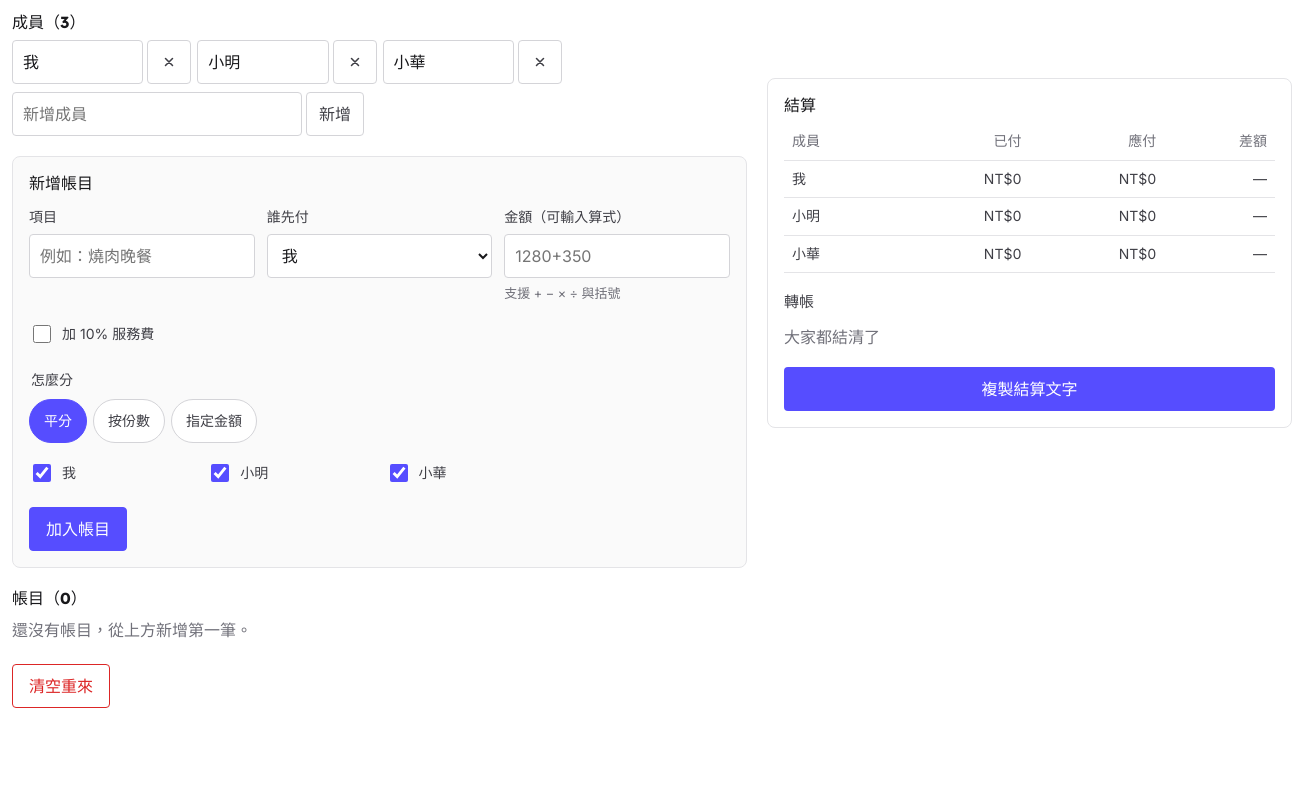
Scenario: SplitBillApp › edits an expense and focuses the form
In the field with id "expense-title": (142, 256) [29,234,255,278], type "晚餐"
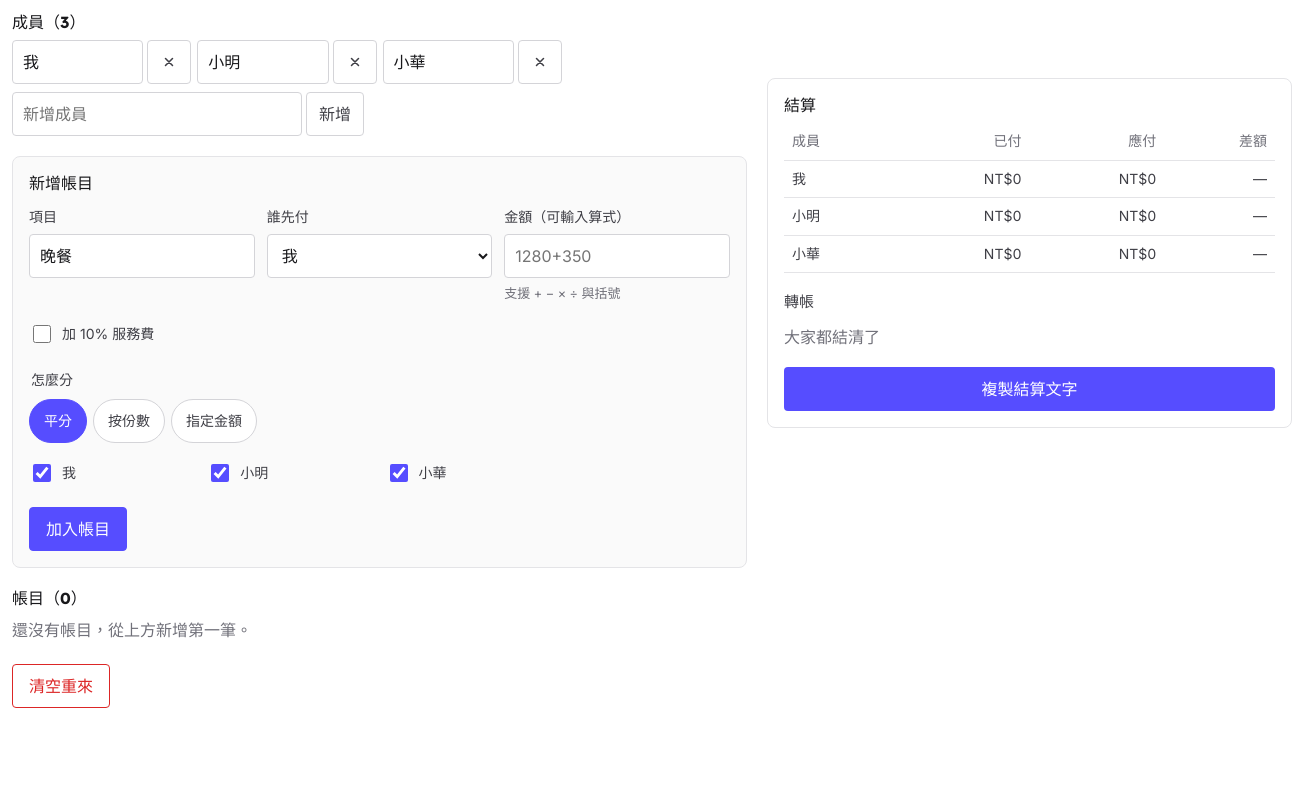
In the field with id "expense-amount": (617, 256) [504,234,730,278], type "900"
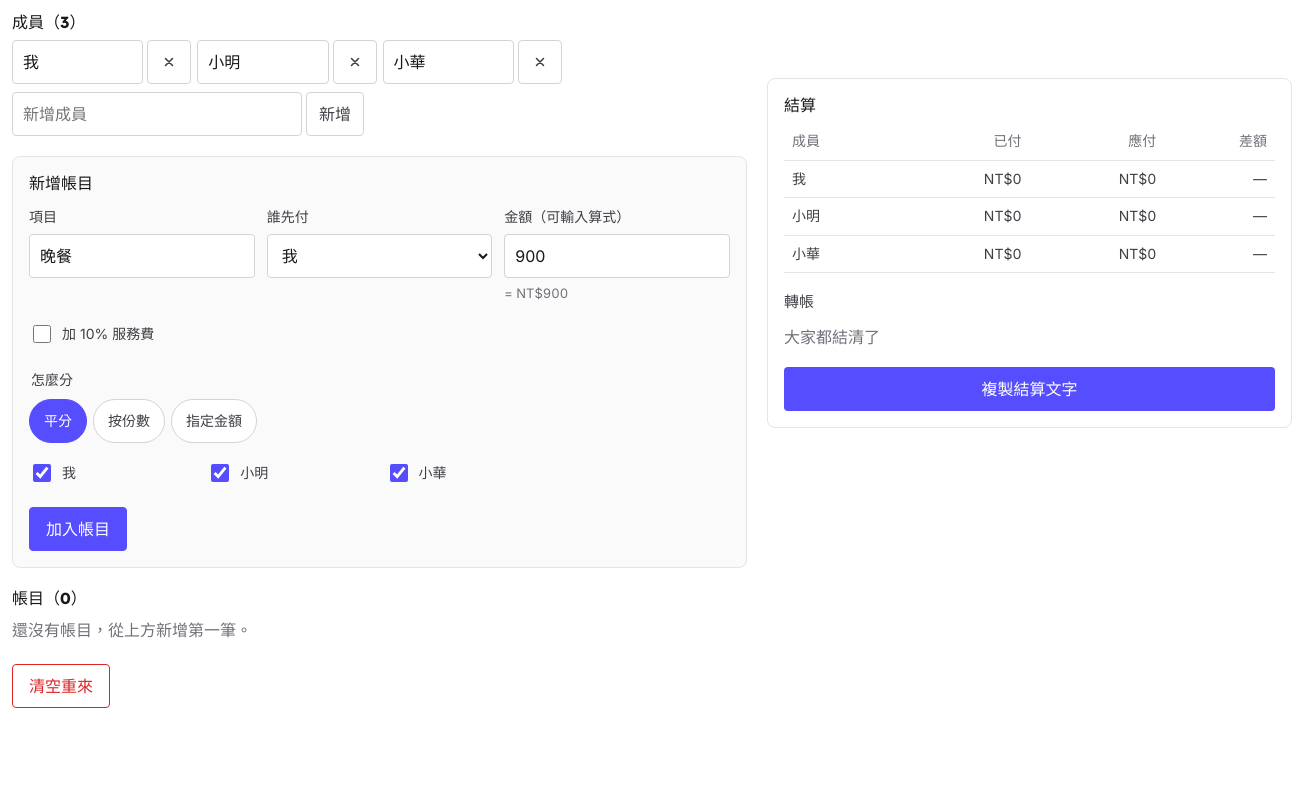
Submit the form with class "expense-form", box [12,156,747,568]
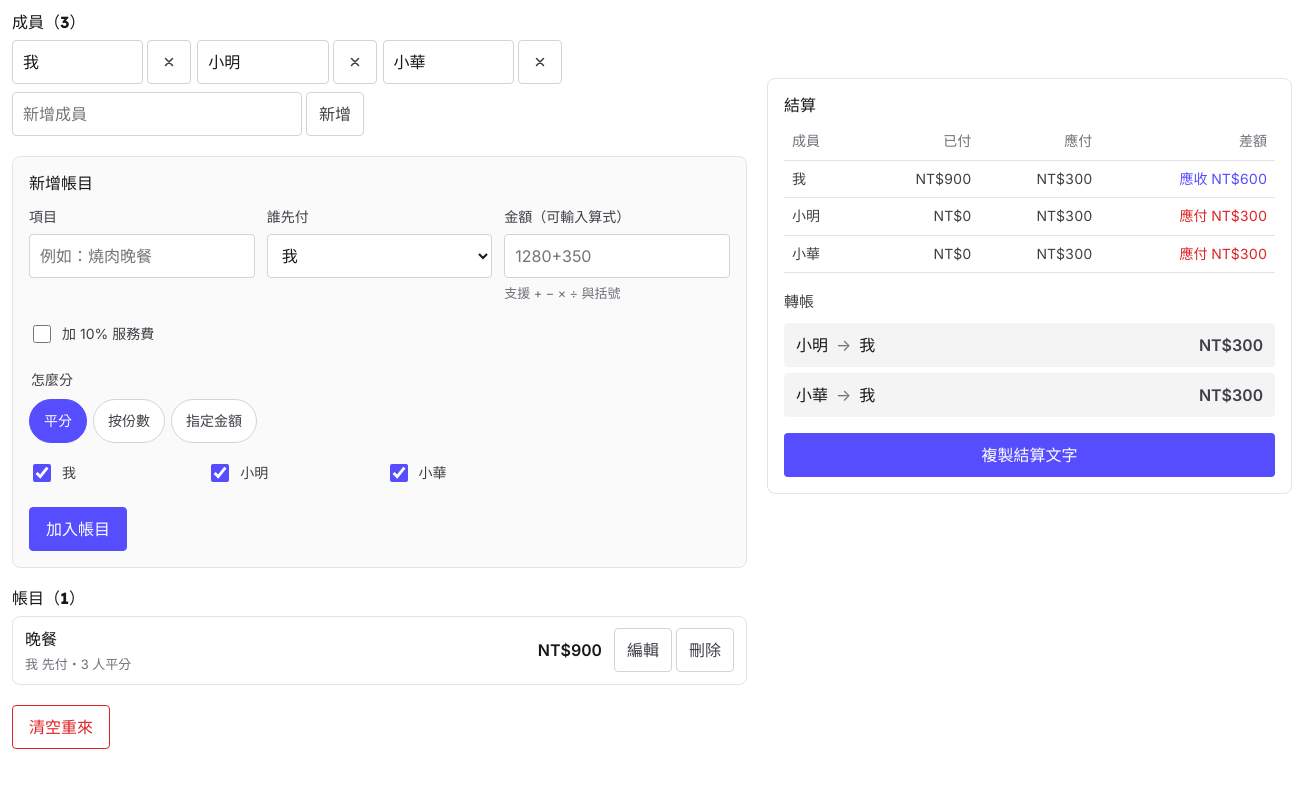
Click the button with aria-label "編輯『晚餐』": (643, 650) [614,628,672,672]
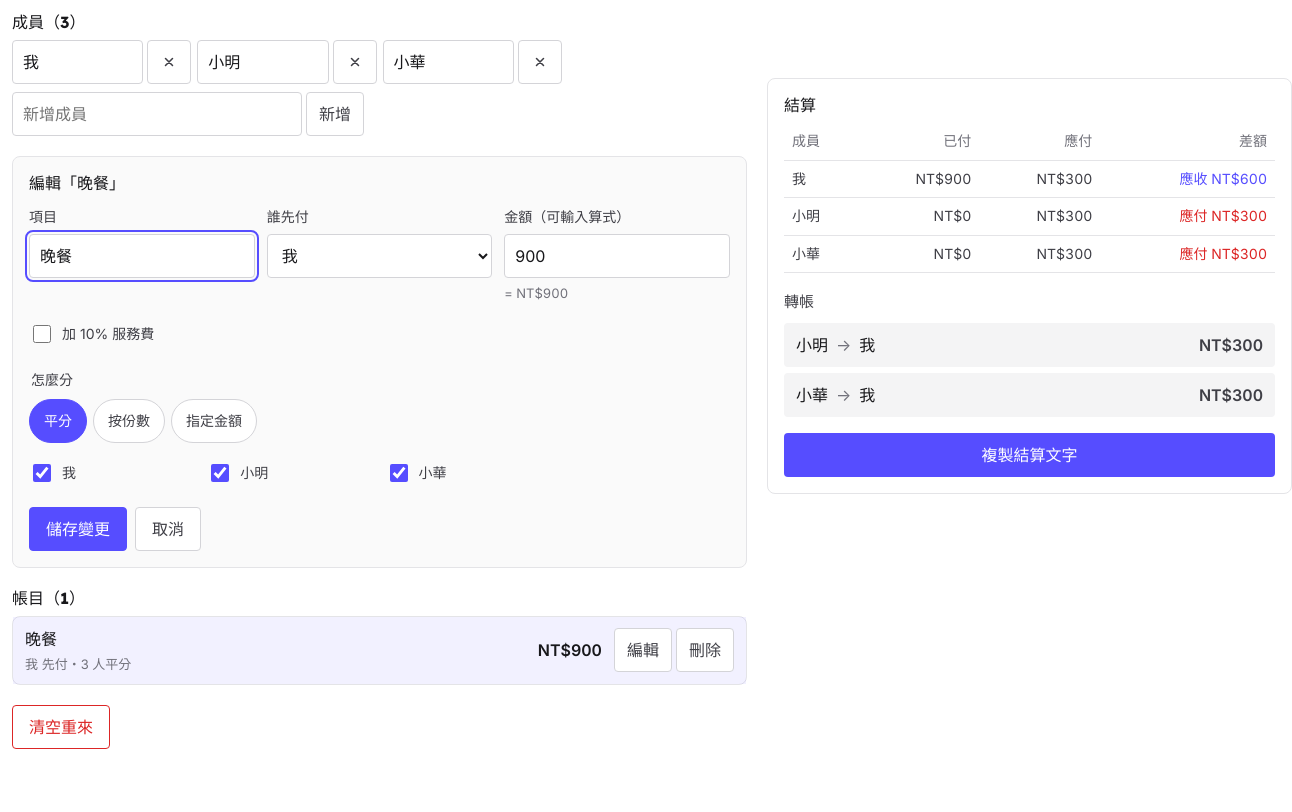
Expected: the heading with id "expense-form-title" reads "編輯「晚餐」", [29,173,125,193]
Replace the text in the field with id "expense-amount" with "1200": (617, 256) [504,234,730,278]
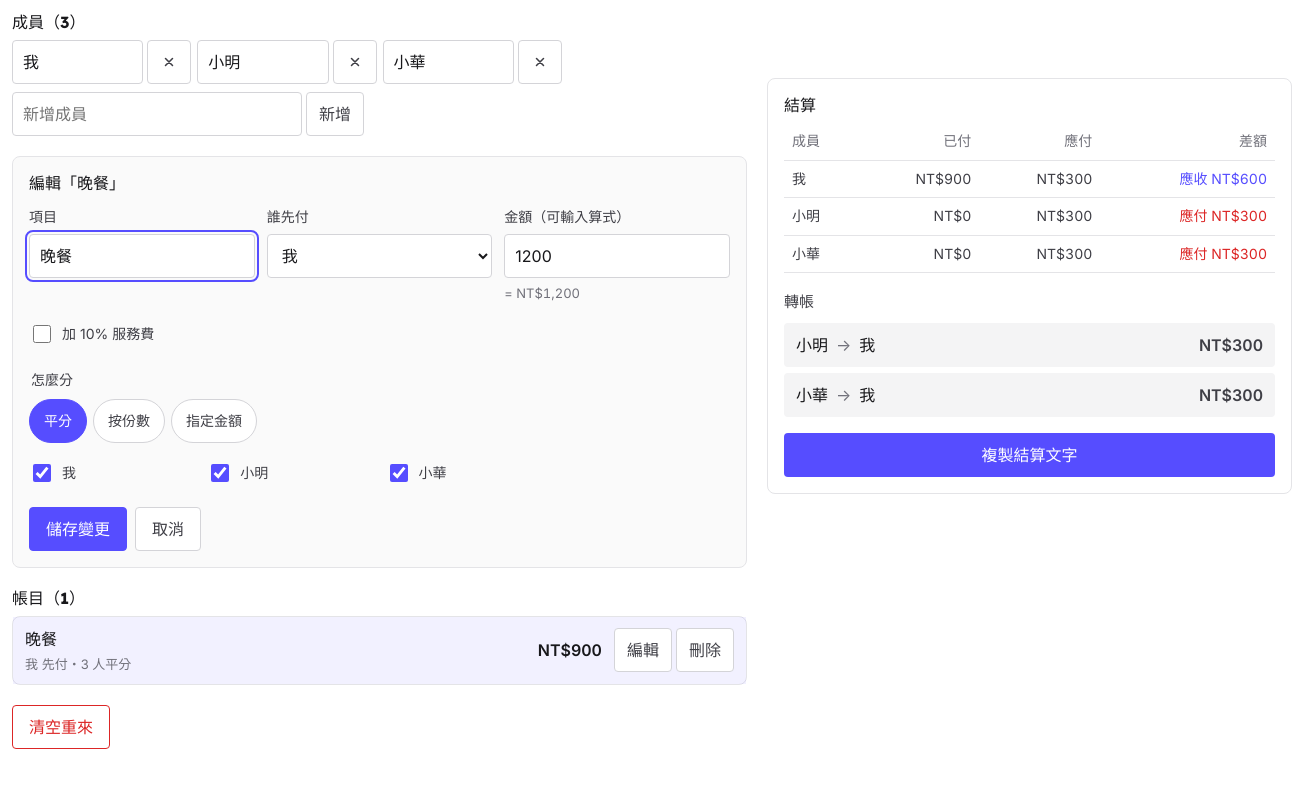
Submit the form with class "expense-form", box [12,156,747,568]
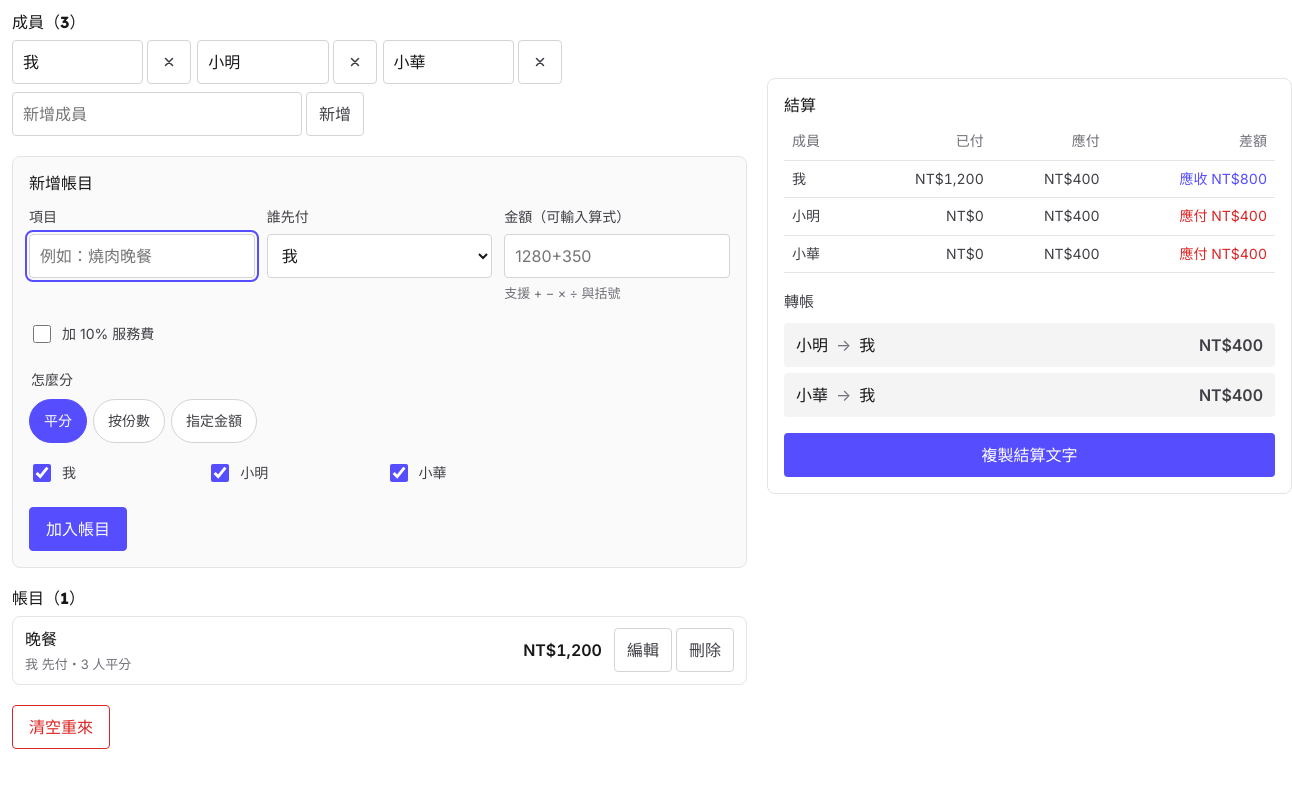
Expected: the element with class "expenses" shows "NT$1,200", [523,640,602,660]
